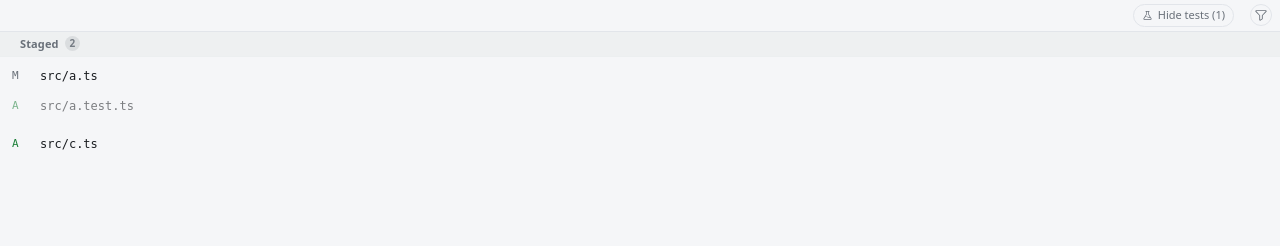
it: FileList — filter panel › shows the full-width panel row when the filter icon is clicked
Click the button named "File filters".
click(1261, 15)  # box [1250,4,1272,26]
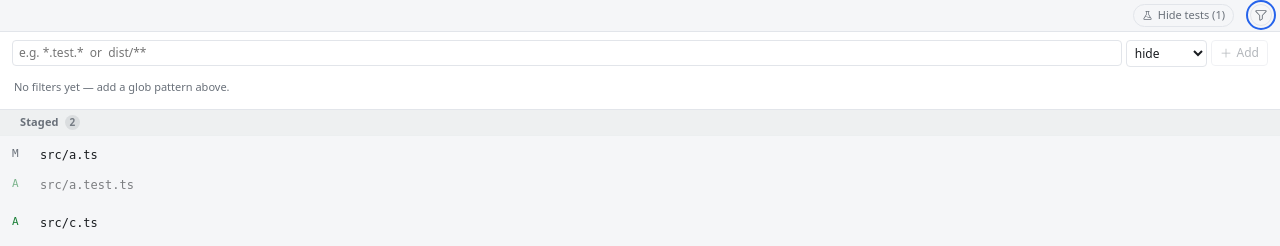
Expected: the element named "File filters" is shown, [0,32,1279,110]
